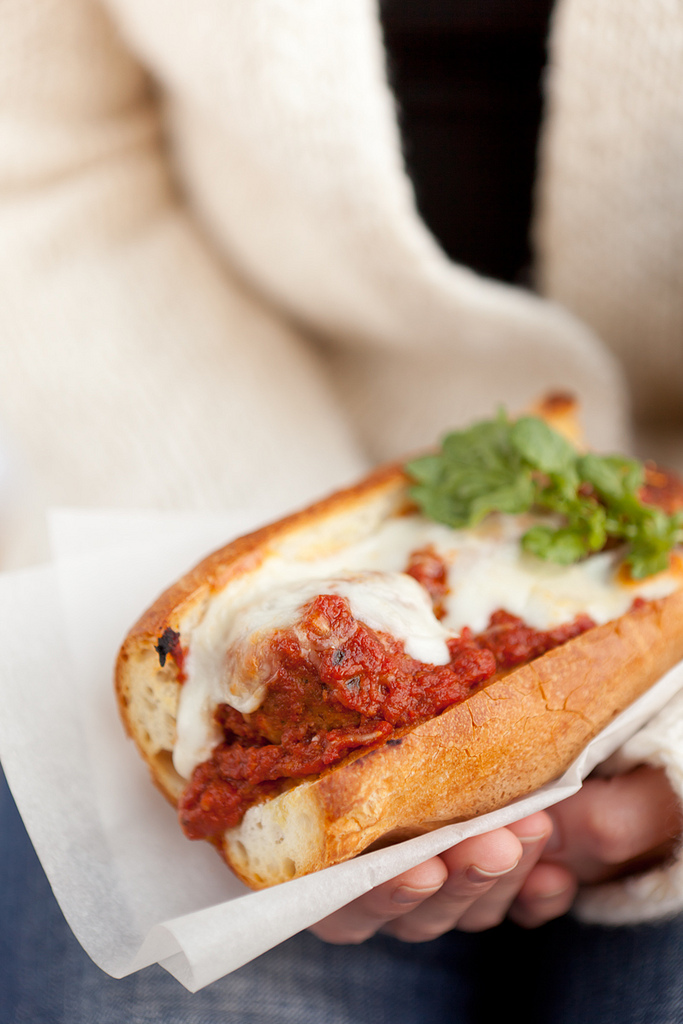chopped lettuce: (423, 405, 683, 584)
meatballs: (251, 610, 451, 747)
slice of bread: (242, 571, 681, 881)
